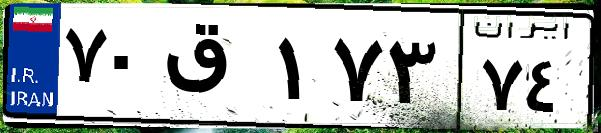0: (110, 28, 158, 98)
1: (270, 28, 330, 110)
3: (385, 28, 445, 110)
4: (525, 38, 570, 115)
7: (330, 28, 385, 110), (57, 26, 110, 100), (475, 38, 525, 113)
ق: (158, 20, 270, 120)
